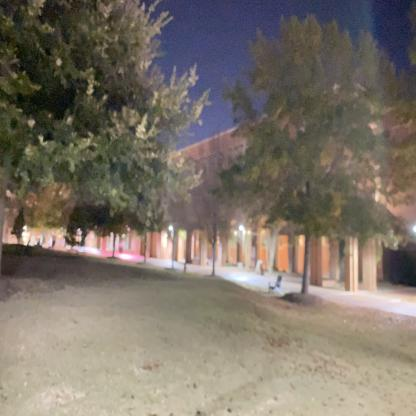eb3: (72, 101, 405, 280)
